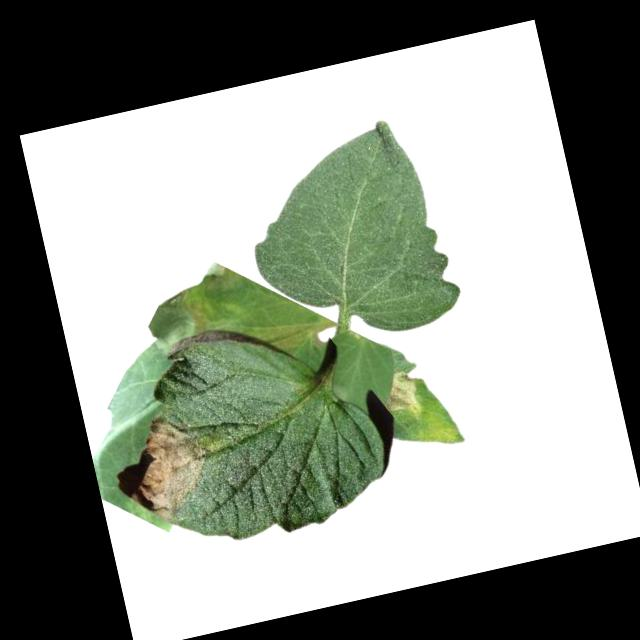Late_blight: (116, 409, 218, 531), (142, 285, 221, 361), (378, 365, 427, 426), (195, 254, 244, 296)
healthy: (230, 112, 467, 360)
